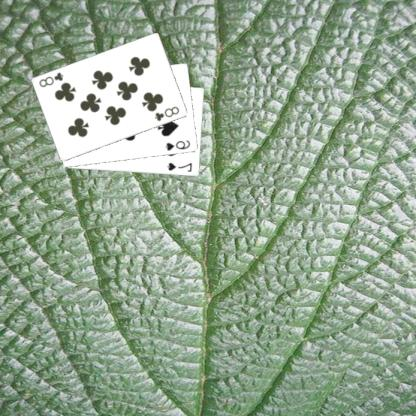6S: (164, 138, 194, 152)
7S: (166, 160, 196, 173)
8C: (154, 104, 183, 122), (38, 70, 67, 88)
